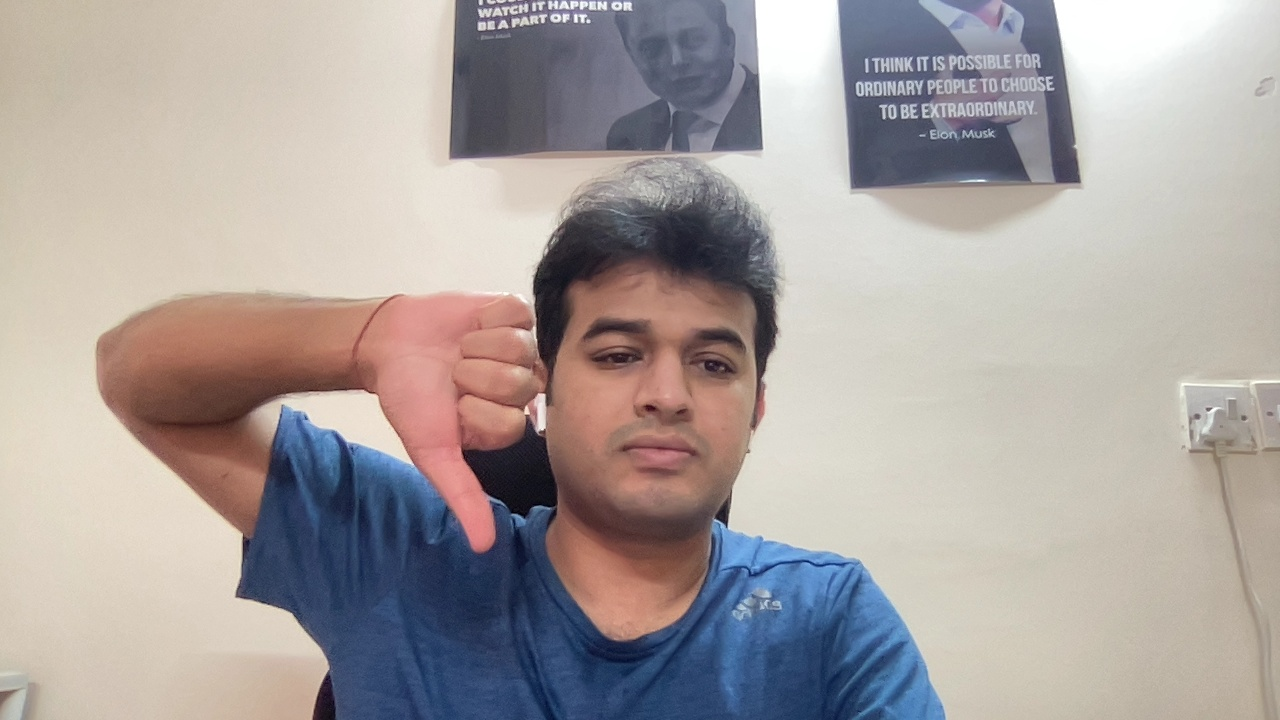down: (376, 275, 557, 556)
